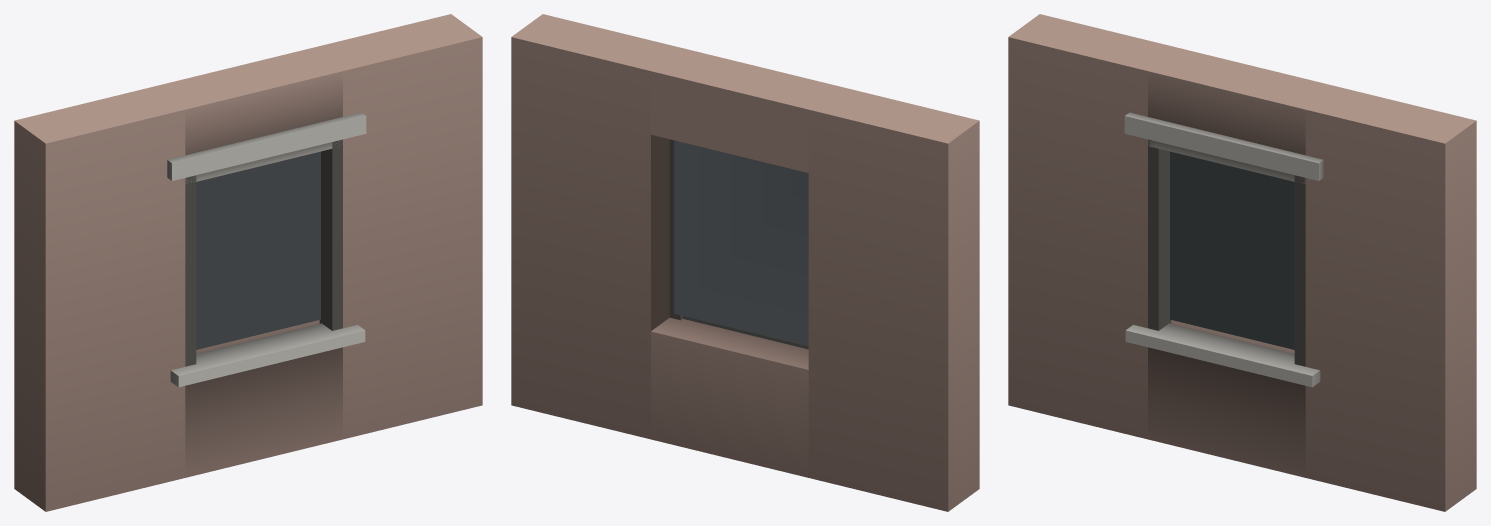
File: bay_brick_residential.lod2.glb
The picture shows the model from 3 angles, left to right: view 1: azimuth 30°, elevation 25°; view 2: azimuth 150°, elevation 25°; view 3: azimuth 330°, elevation 25°; orthographic projection.
Visible parts, largest first — view 1: facade_bay_brick_residential.lod2; view 2: facade_bay_brick_residential.lod2; view 3: facade_bay_brick_residential.lod2.
Boxes of the visible parts, x1,y1,x2,y2 form: facade_bay_brick_residential.lod2: [14, 14, 482, 511]; facade_bay_brick_residential.lod2: [511, 14, 979, 511]; facade_bay_brick_residential.lod2: [1008, 14, 1476, 511].
Bounding box in the file's own units: 3.6 × 2.9 × 0.5599.
